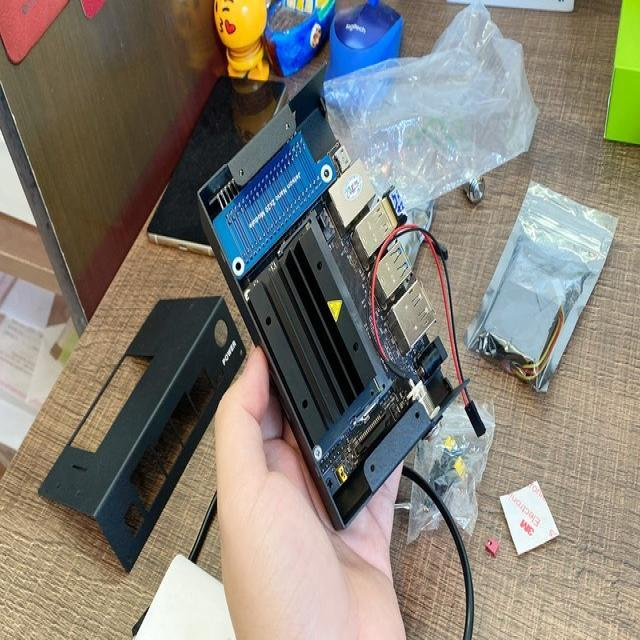Jetson Nano: (246, 159, 448, 498)
